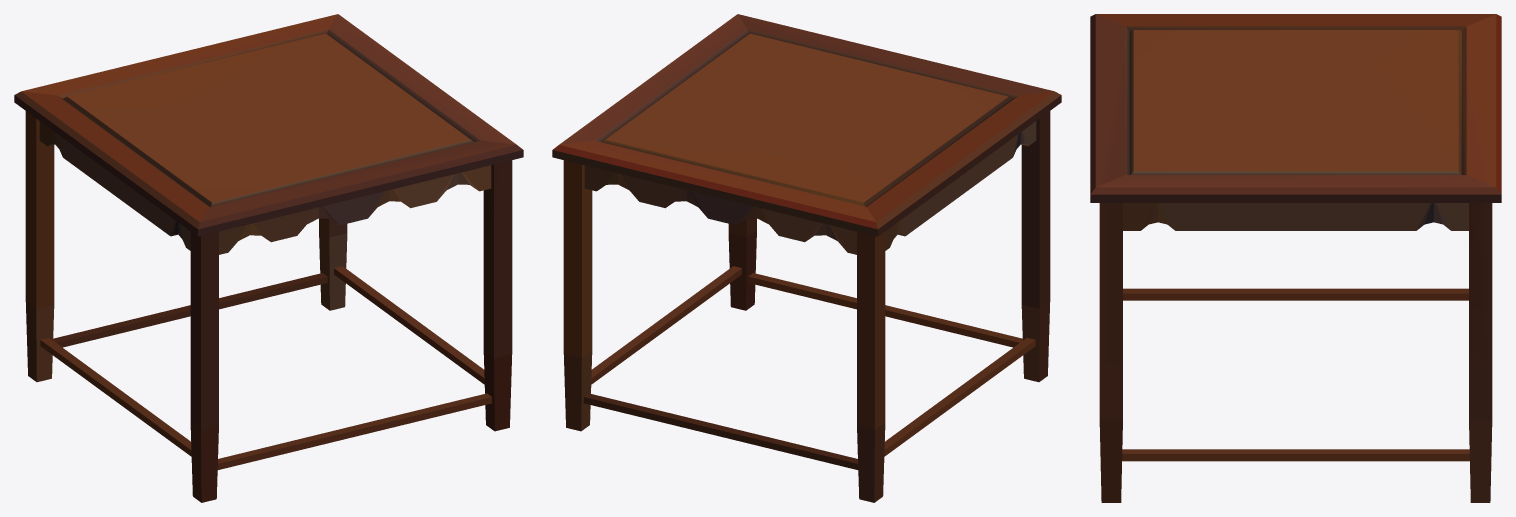
Rendered from Furniture_EndTableE.fbx.
The picture shows the model from 3 angles, left to right: view 1: azimuth 30°, elevation 25°; view 2: azimuth 150°, elevation 25°; view 3: azimuth 270°, elevation 25°; orthographic projection. The views are drawn at different scales.
Parts seen in each view (by area): view 1: Furniture_EndTableE; view 2: Furniture_EndTableE; view 3: Furniture_EndTableE.
Part boxes in pixels (x1=…): Furniture_EndTableE: x1=14, y1=14, x2=523, y2=502; Furniture_EndTableE: x1=552, y1=14, x2=1061, y2=502; Furniture_EndTableE: x1=1090, y1=14, x2=1501, y2=502.
Size of the model in its own units: 119 by 98.77 by 116.
